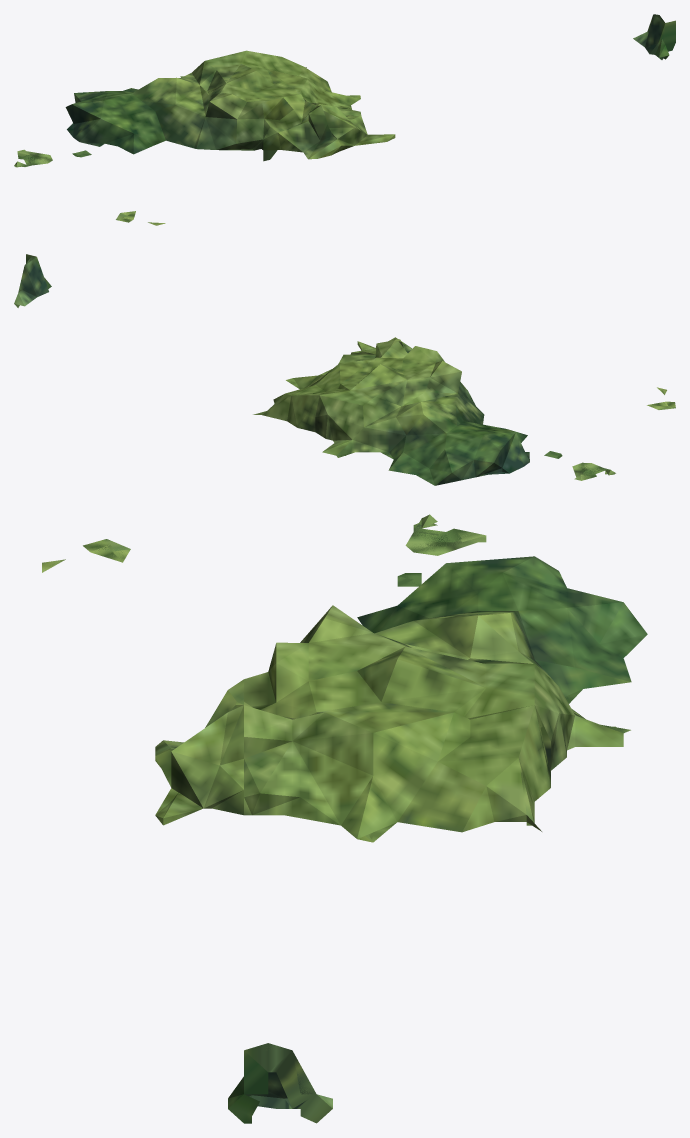
The model's file is BuildingMesh-00128.gltf.
3 views of the same model, one above another, from view 1: azimuth 30°, elevation 25°; view 2: azimuth 150°, elevation 25°; view 3: azimuth 270°, elevation 25° (orthographic). The views are drawn at different scales.
Visible parts, largest first — view 1: BuildingMesh-00128; view 2: BuildingMesh-00128; view 3: BuildingMesh-00128.
Part boxes in pixels (left/top/right/bottom): BuildingMesh-00128: left=14, top=14, right=675, bottom=225; BuildingMesh-00128: left=14, top=254, right=675, bottom=485; BuildingMesh-00128: left=42, top=514, right=647, bottom=1123.
Size of the model in its own units: 2.76 by 0.2353 by 1.18.
Materials: 1 (1 with a texture image).
